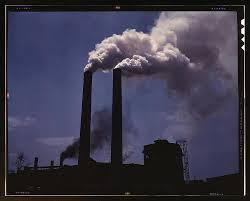smoke: (55, 5, 250, 161)
